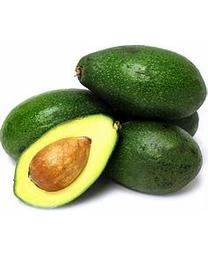avocado: (14, 113, 119, 210), (74, 44, 206, 119), (82, 116, 204, 196), (1, 88, 111, 164)
